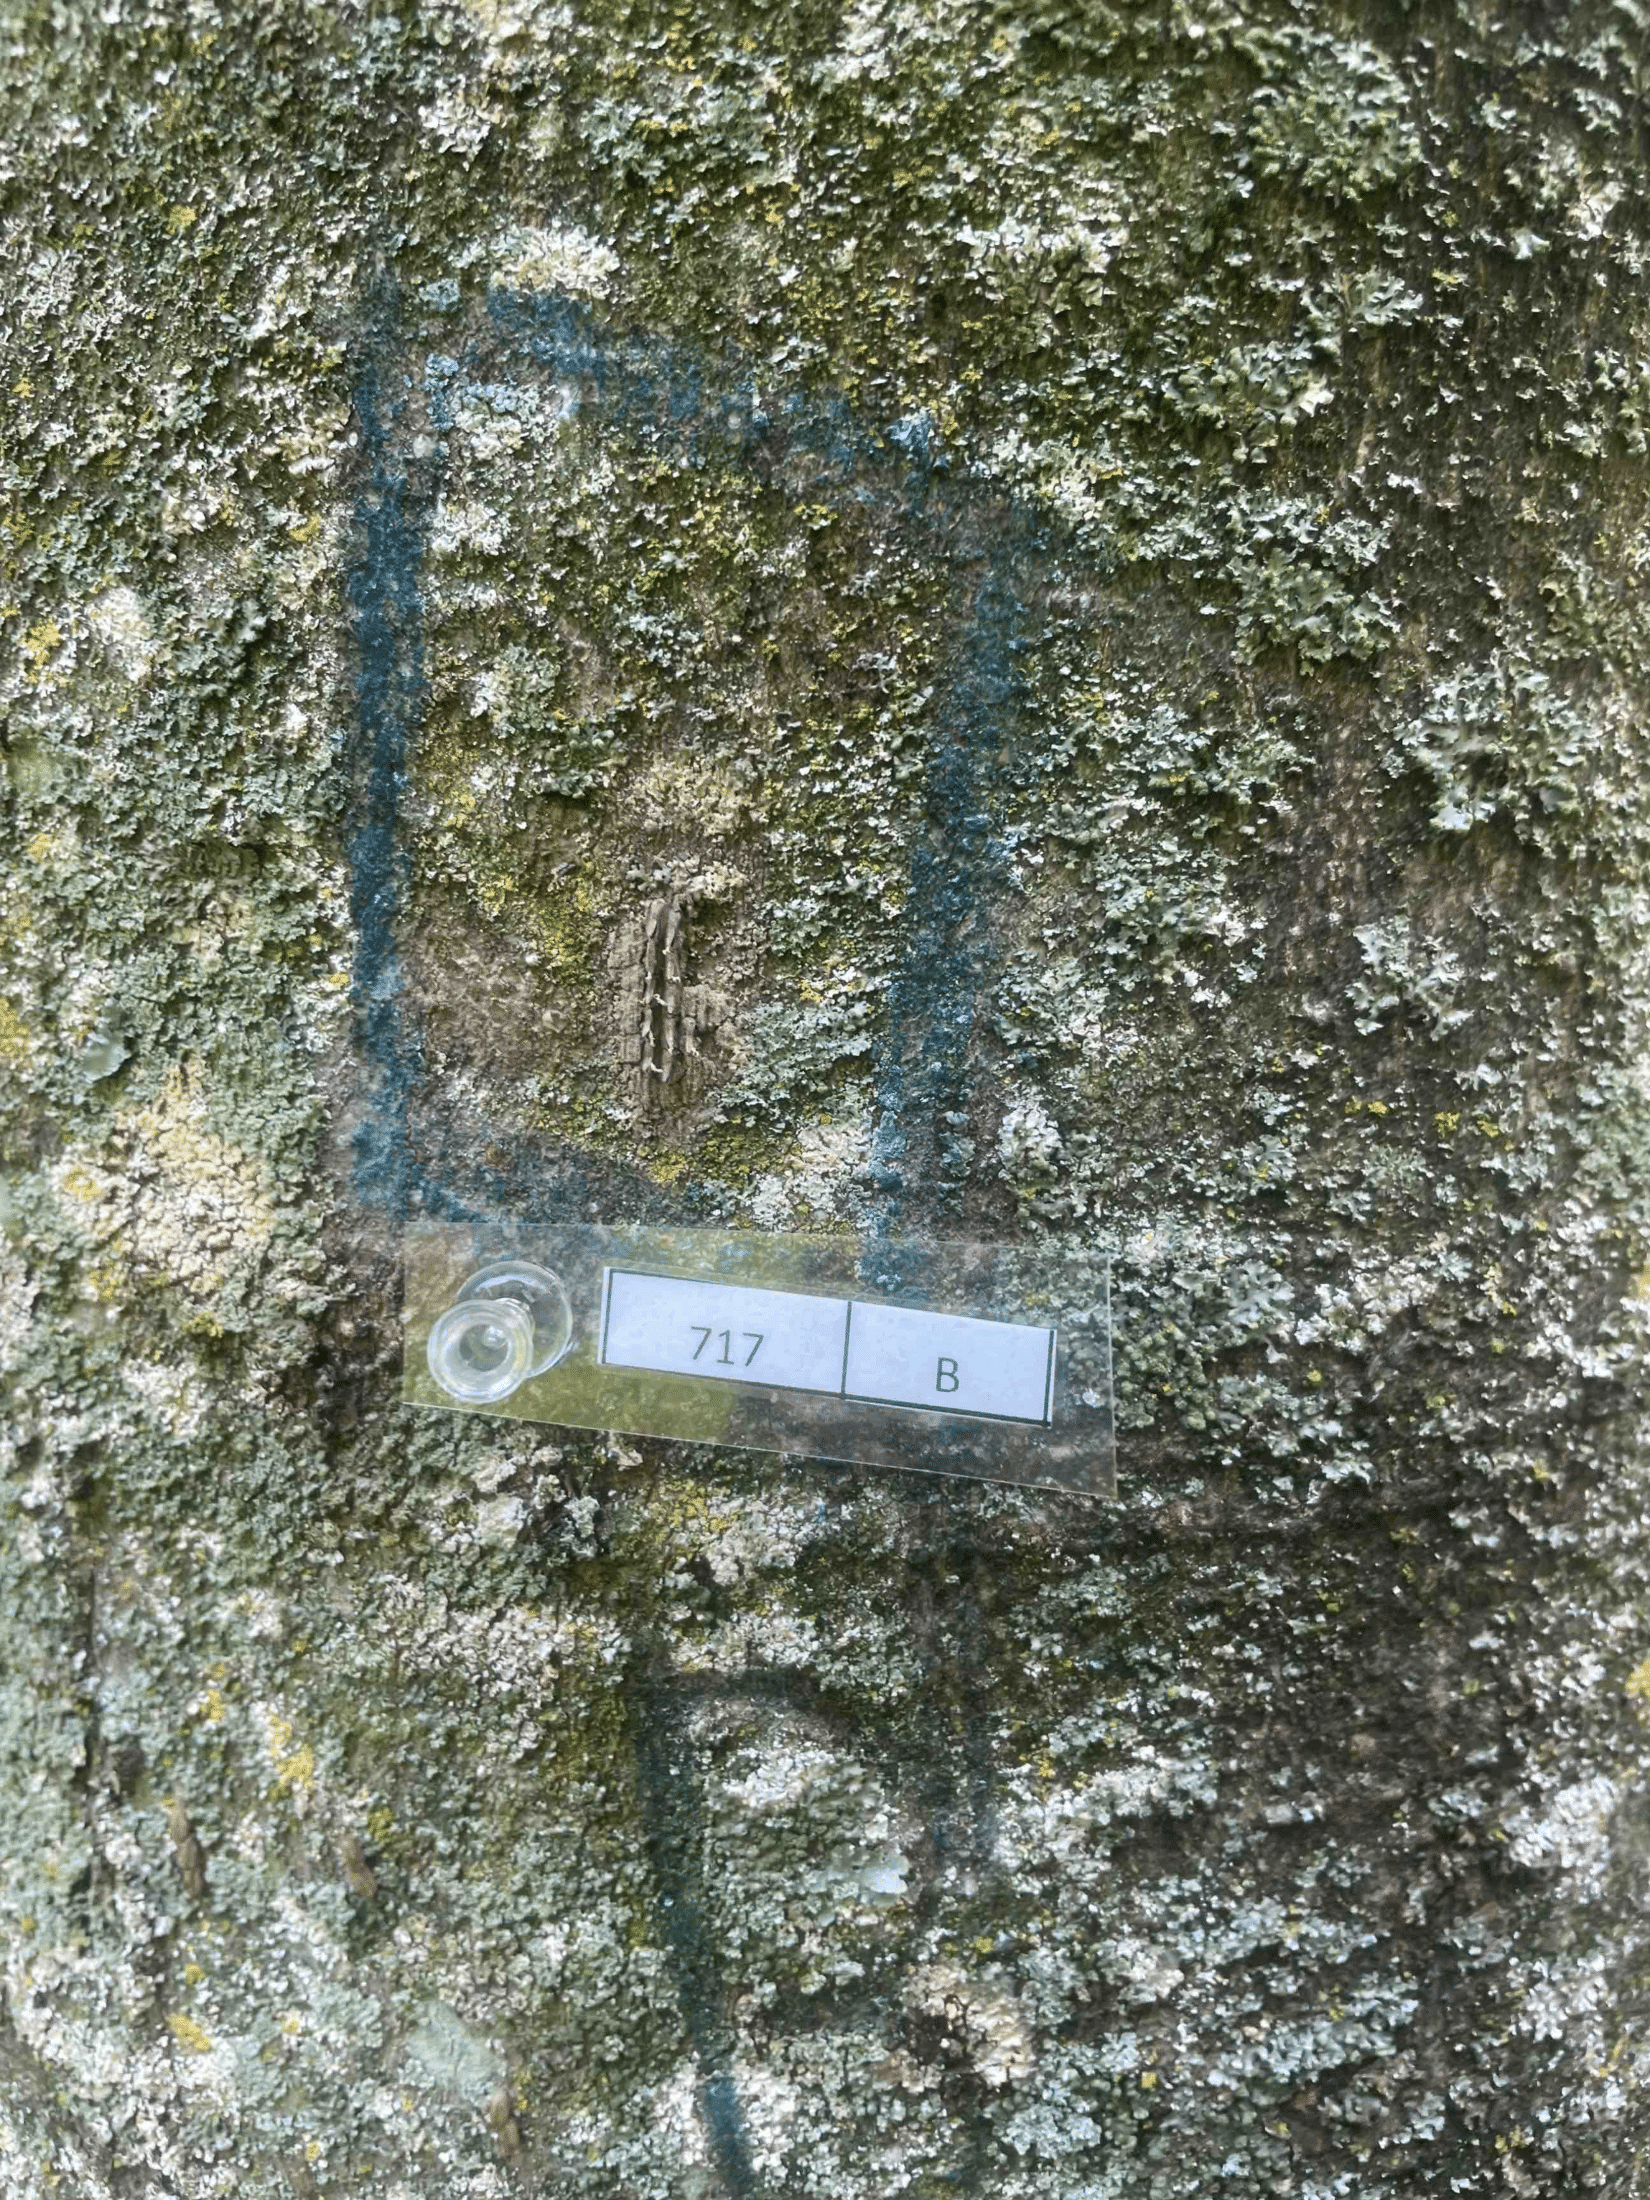egg masses: (614, 894, 711, 1107)
